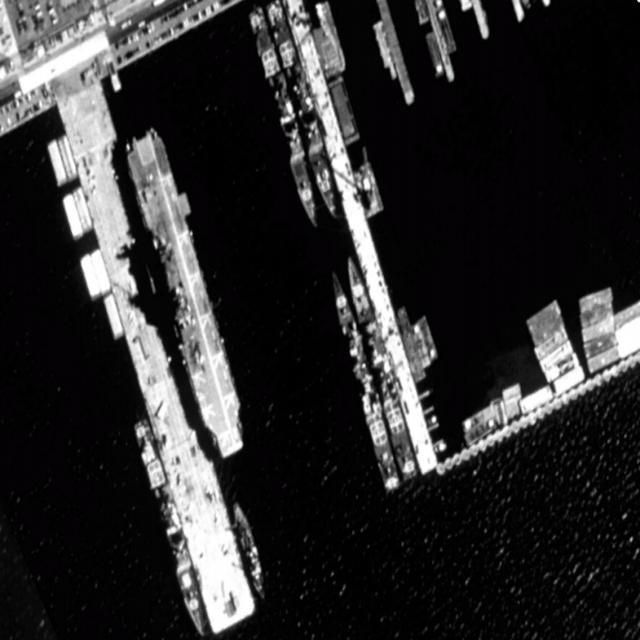Cruiser: (339, 250, 424, 488), (245, 2, 328, 234), (130, 413, 213, 636), (266, 2, 347, 225), (327, 269, 403, 499)
Landing: (122, 120, 256, 463)
Other Warship: (231, 500, 270, 600)
